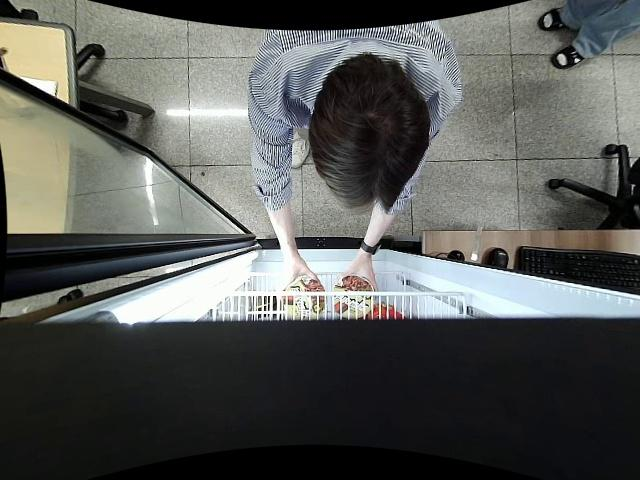00_hand: (276, 251, 320, 301), (339, 262, 380, 313)
03_chapagetti_L: (282, 278, 329, 323), (329, 272, 374, 319)
